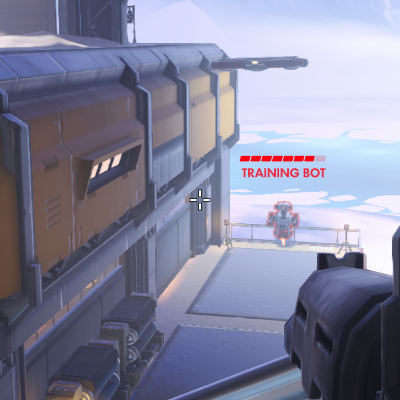hpbar: (239, 155, 326, 162)
